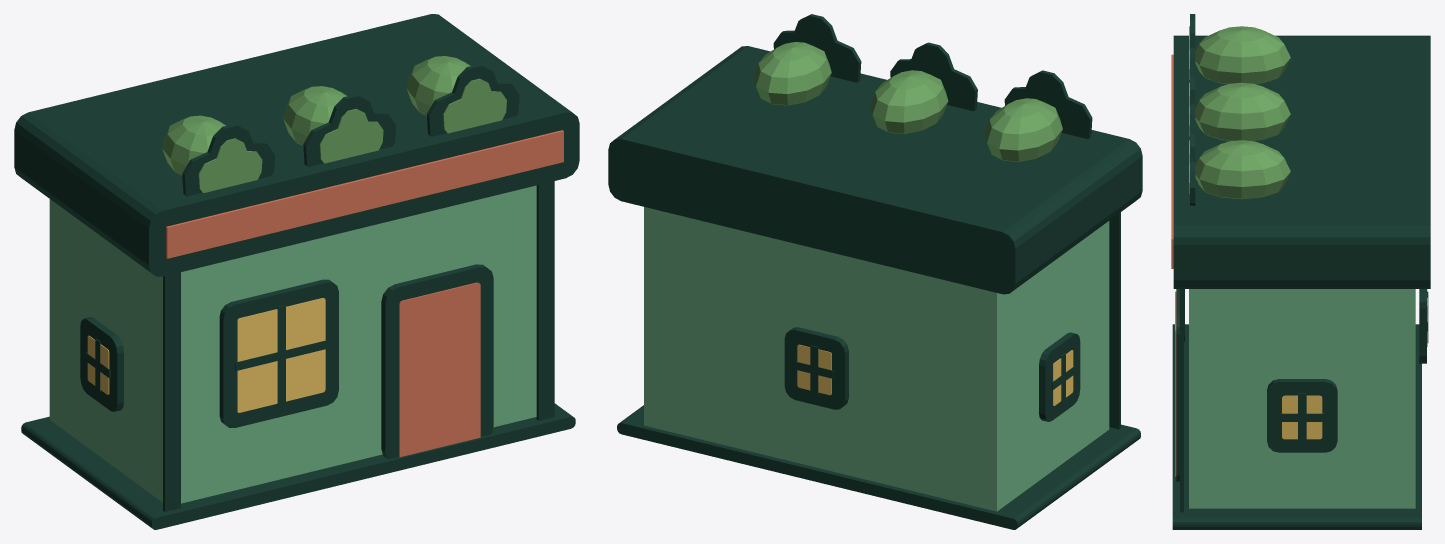
Rendered from variant-12.glb.
The picture shows the model from 3 angles, left to right: view 1: azimuth 30°, elevation 25°; view 2: azimuth 150°, elevation 25°; view 3: azimuth 270°, elevation 25°; orthographic projection. The views are drawn at different scales.
Parts seen in each view (by area): view 1: Roof garden; view 2: Roof garden; view 3: Roof garden.
Boxes of the visible parts, x1,y1,x2,y2 form: Roof garden: [14, 14, 579, 529]; Roof garden: [608, 14, 1142, 529]; Roof garden: [1171, 14, 1430, 529].
Bounding box in the file's own units: 1.08 × 0.8971 × 0.5886.
